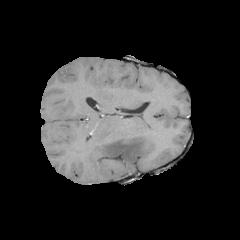glioma: (96, 114, 151, 169)
